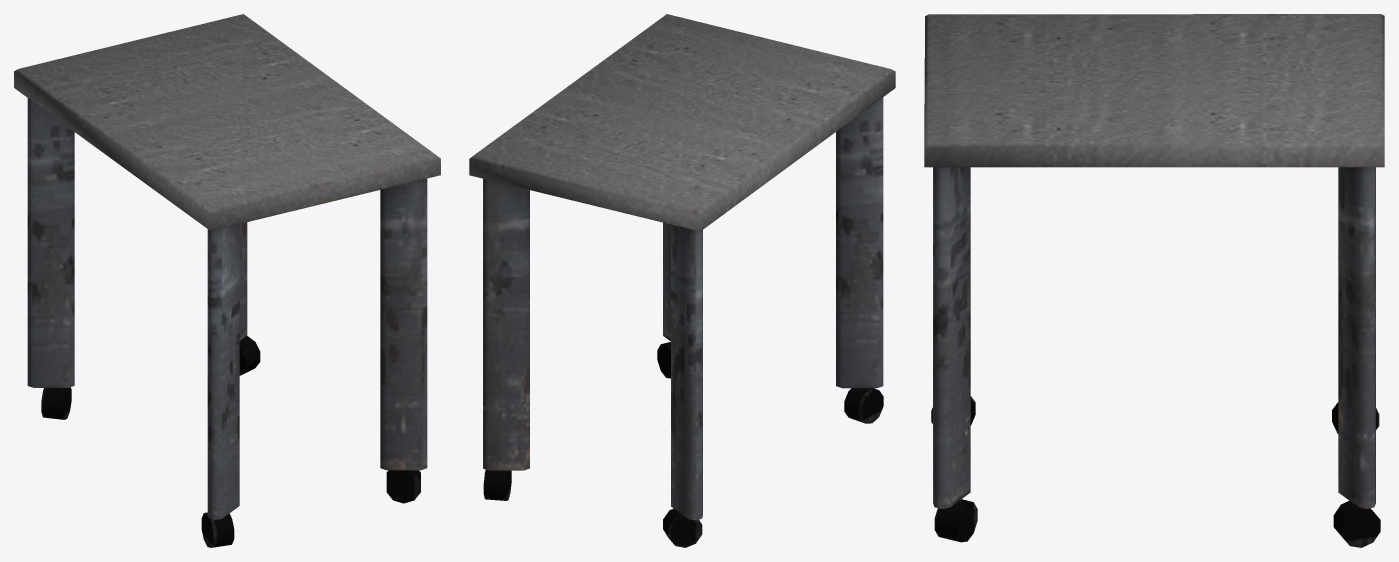
Rendered from MetalTable.FBX.
3 views of the same model, side by side, from view 1: azimuth 30°, elevation 25°; view 2: azimuth 150°, elevation 25°; view 3: azimuth 270°, elevation 25° (orthographic). The views are drawn at different scales.
Visible parts, largest first — view 1: MetalTable; view 2: MetalTable; view 3: MetalTable.
Boxes of the visible parts, x1,y1,x2,y2 form: MetalTable: [14, 14, 440, 547]; MetalTable: [469, 14, 895, 547]; MetalTable: [924, 14, 1384, 547].
Bounding box in the file's own units: 60.22 × 86.61 × 88.69.
